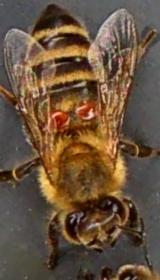varroa_mite: (44, 106, 74, 139), (73, 98, 104, 122)
